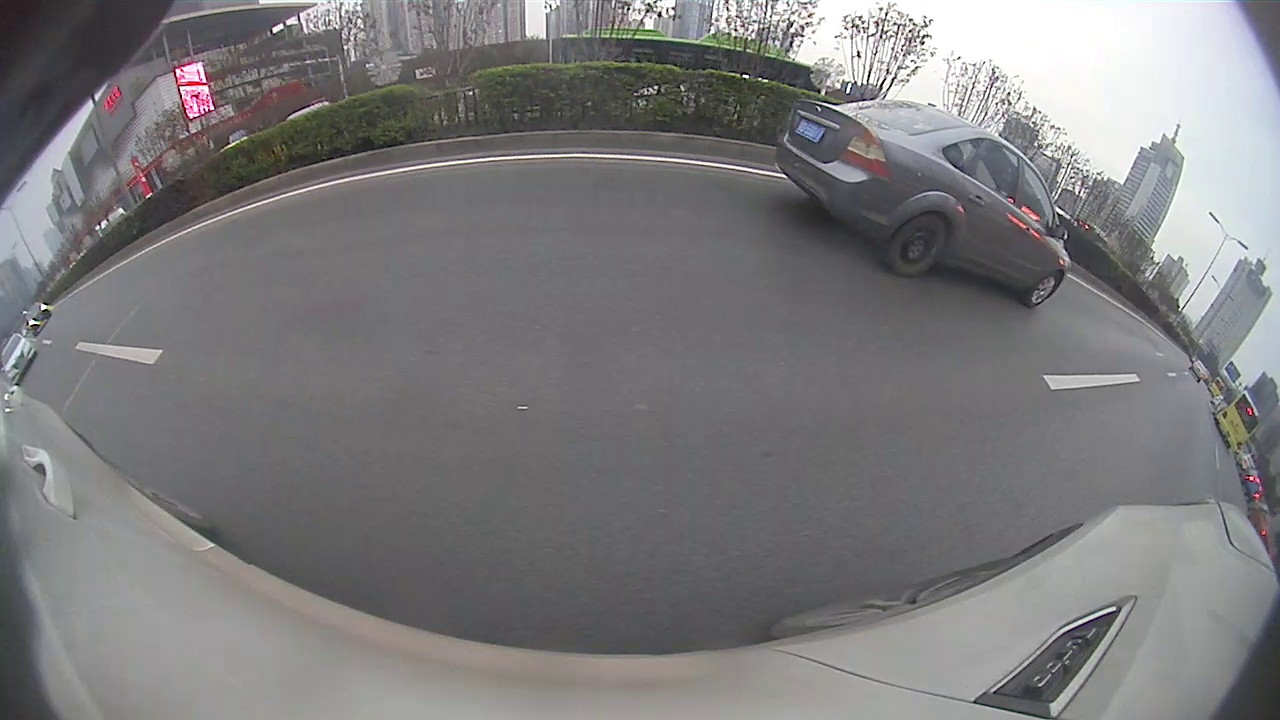bus: (1214, 387, 1263, 448)
car: (781, 82, 1070, 308)
front: (1026, 269, 1064, 310)
rear: (885, 213, 949, 278)
